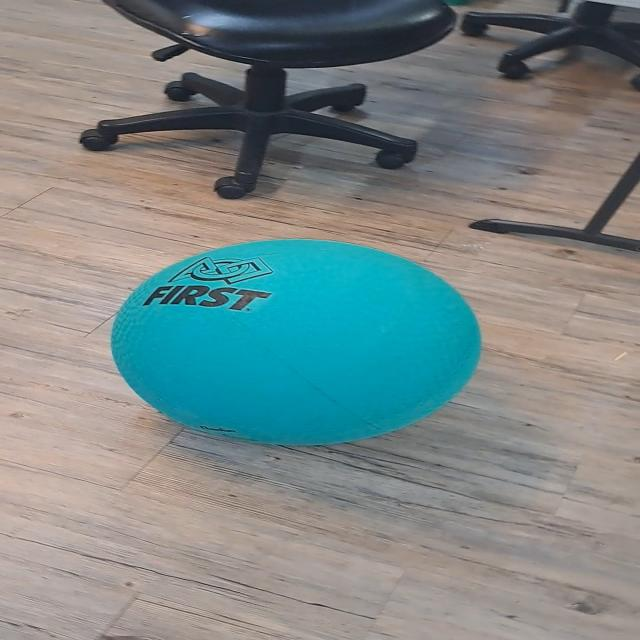ALGAE: (108, 237, 484, 447)
